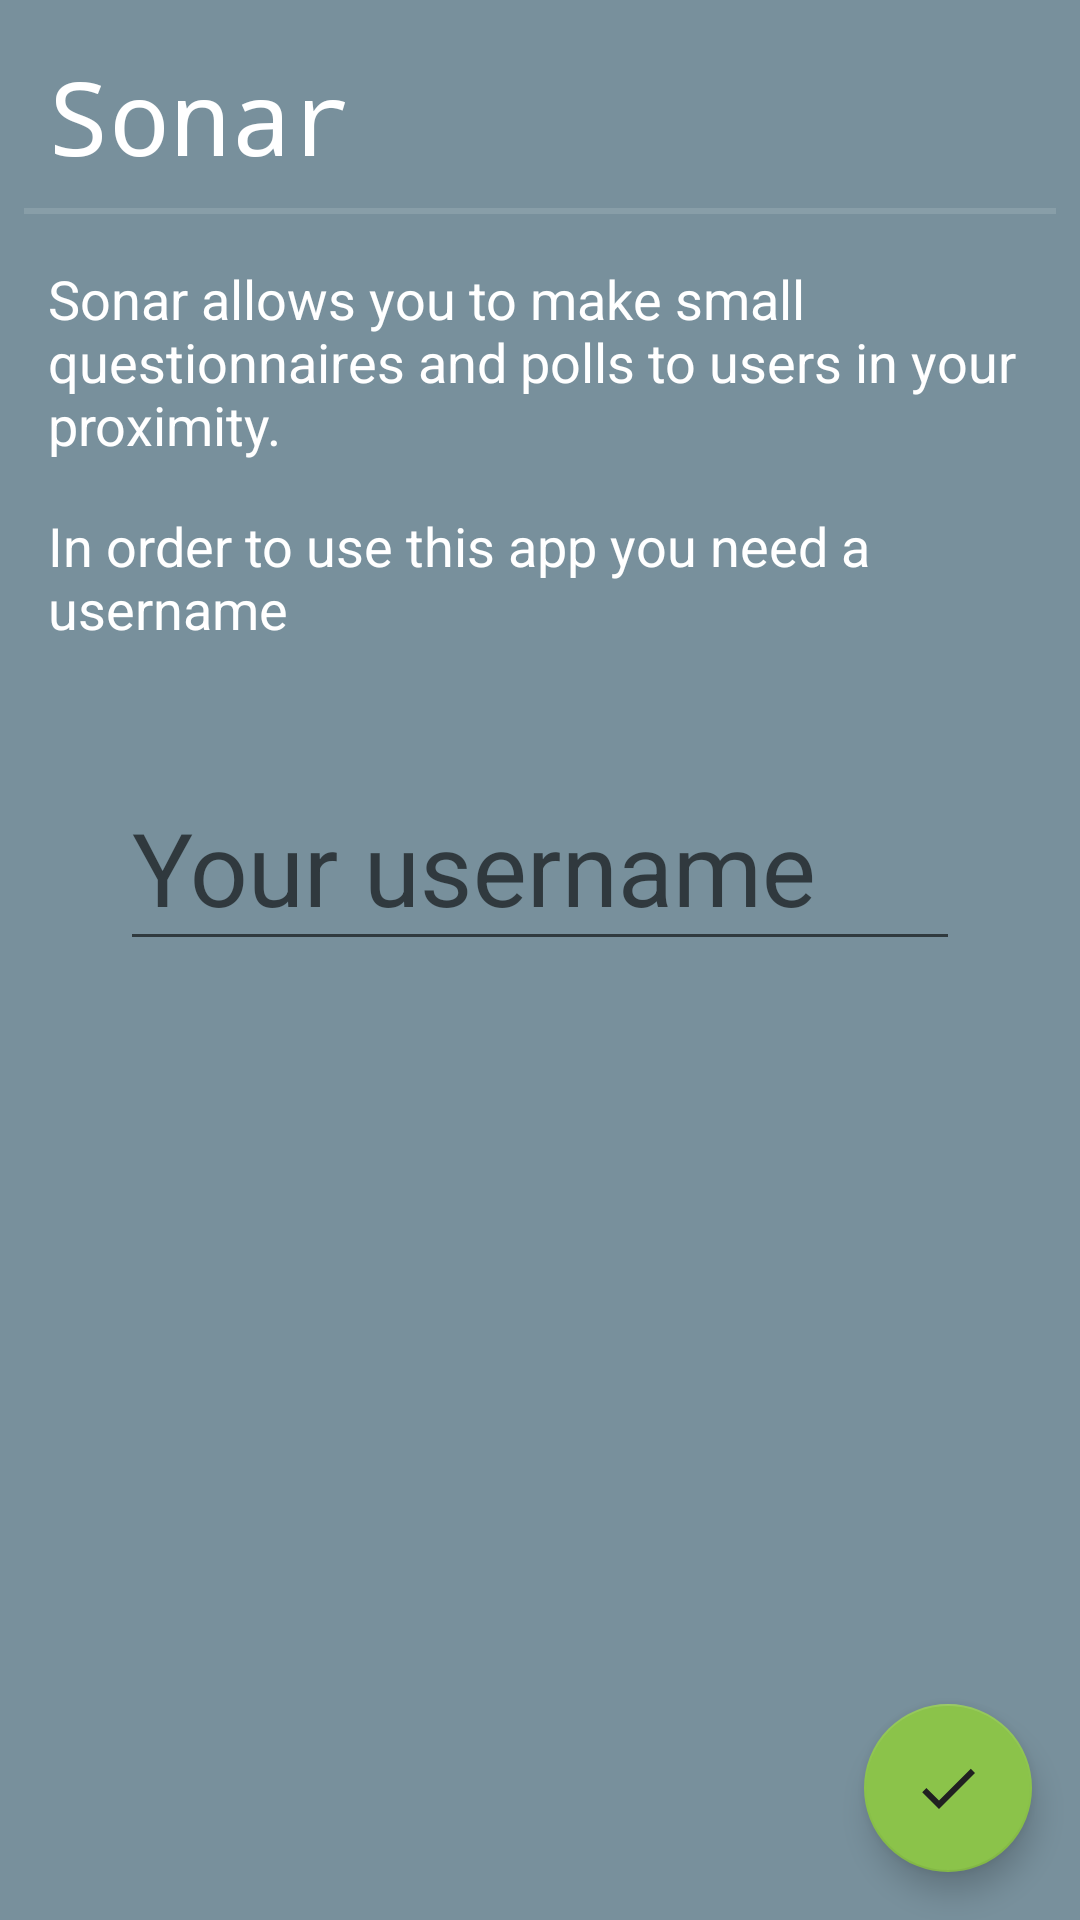

Screen size 1080 x 1920. Icon name, then its center in pixels as (x,y):
done: (948,1788)
